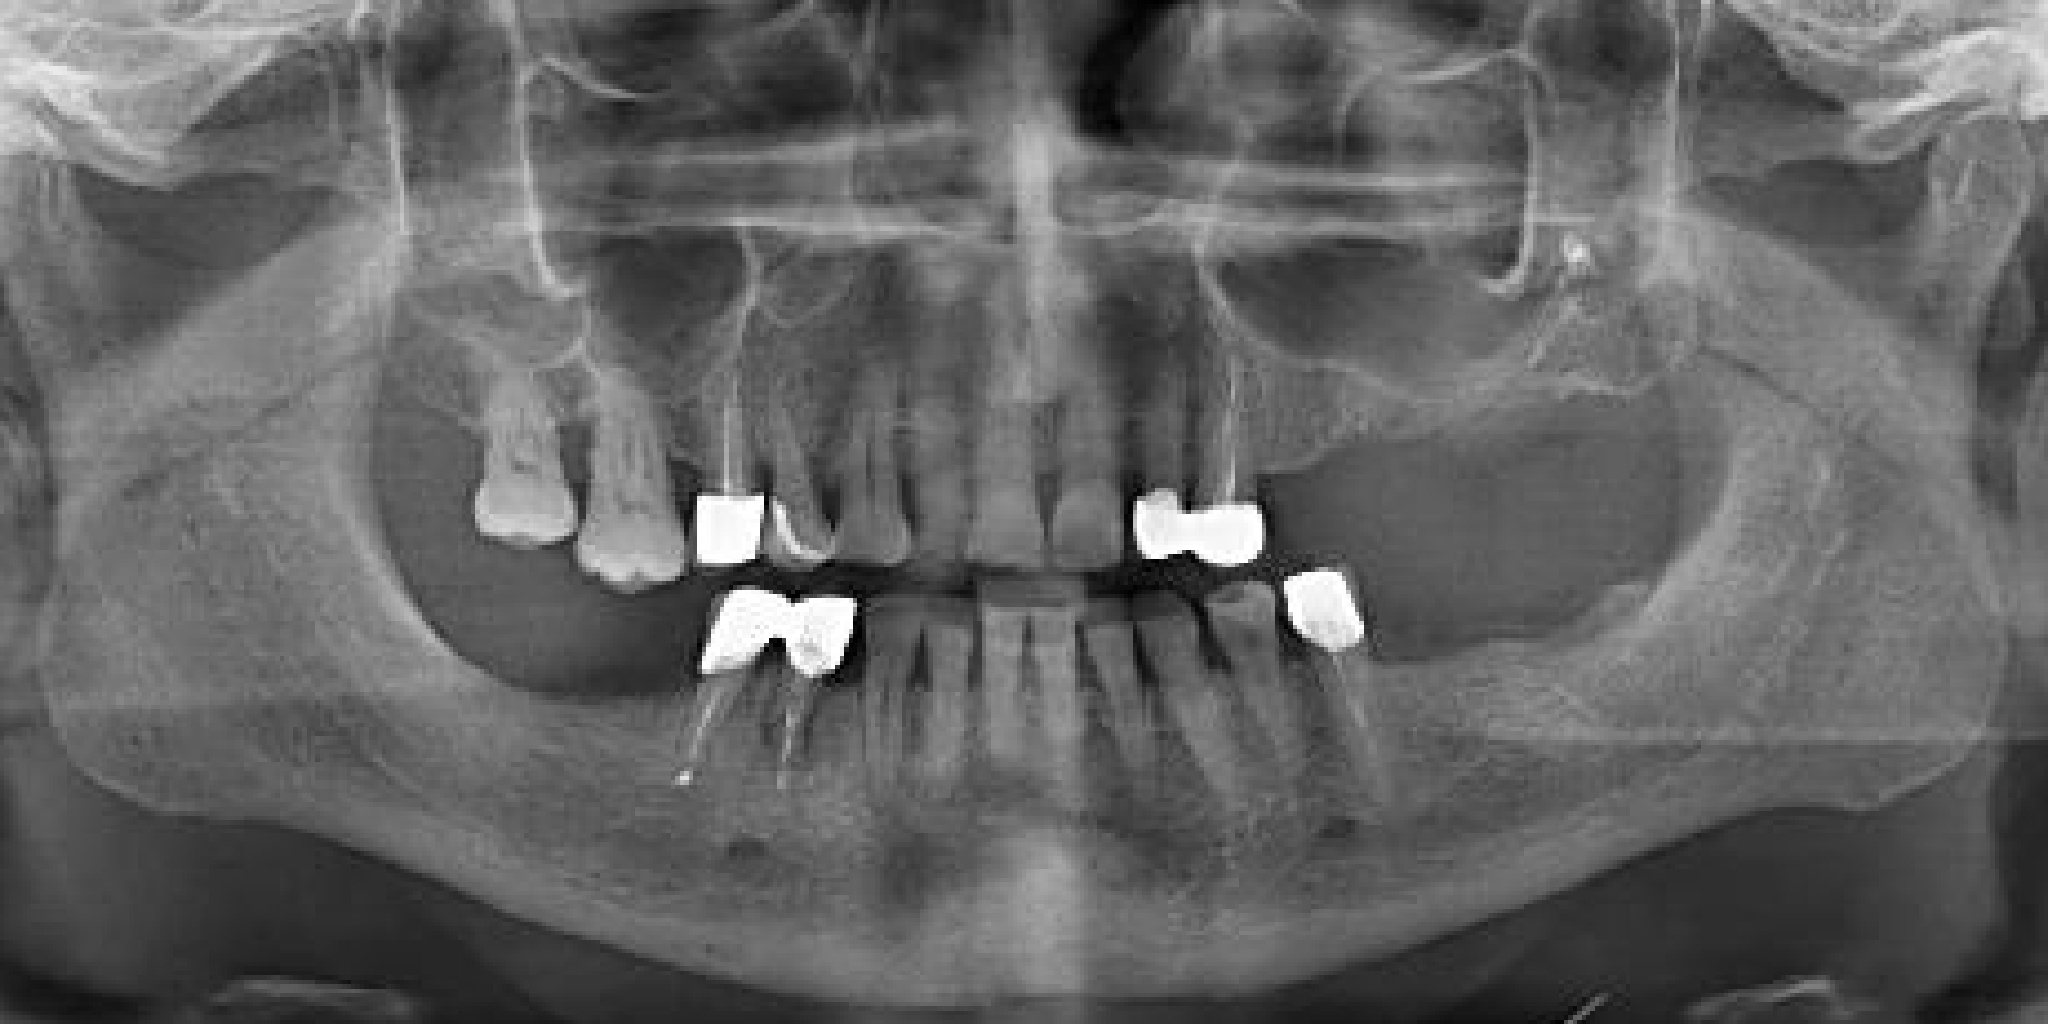Tooth: (1255, 534, 1432, 820), (644, 558, 802, 806), (1192, 562, 1341, 812), (1119, 571, 1260, 819), (1019, 276, 1132, 580), (670, 310, 792, 586), (869, 575, 1000, 828), (739, 571, 870, 824), (1115, 281, 1223, 585), (957, 277, 1055, 576), (1067, 584, 1187, 825), (833, 580, 938, 832), (735, 337, 839, 585), (1179, 327, 1280, 577), (822, 347, 927, 579), (882, 323, 974, 577), (1019, 590, 1108, 812), (952, 586, 1031, 799)
